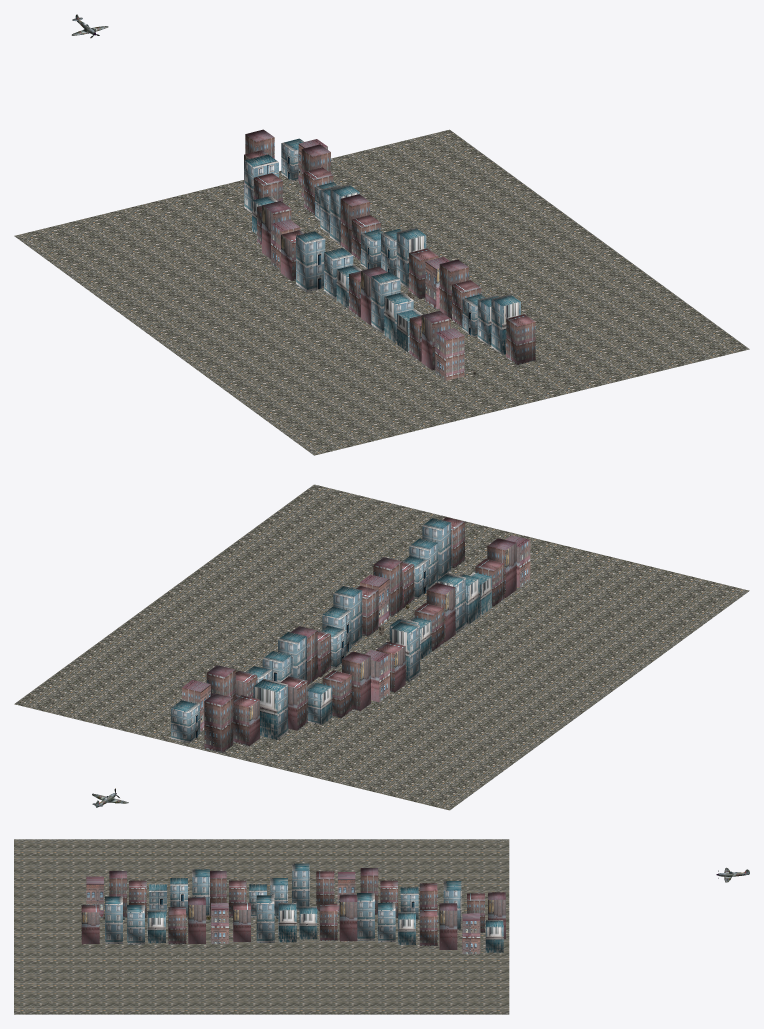
The picture shows the model from 3 angles, top to bottom: view 1: azimuth 30°, elevation 25°; view 2: azimuth 150°, elevation 25°; view 3: azimuth 270°, elevation 25°; orthographic projection. The views are drawn at different scales.
Parts seen in each view (by area): view 1: Plane, Cube.004, Cube; view 2: Plane, Cube.004, Cube; view 3: Plane, Cube.004, Cube.
Part boxes in pixels (x1,y1,x2,y2): Plane: (14,129,749,455); Cube.004: (244,129,535,380); Cube: (244,138,520,354); Plane: (14,484,749,810); Cube.004: (182,517,530,752); Cube: (171,518,491,743); Plane: (14,839,509,1014); Cube.004: (81,868,505,954); Cube: (105,863,503,952).
Size of the model in its own units: 46.75 by 6.72 by 82.92.
12 materials, 8 textured.
